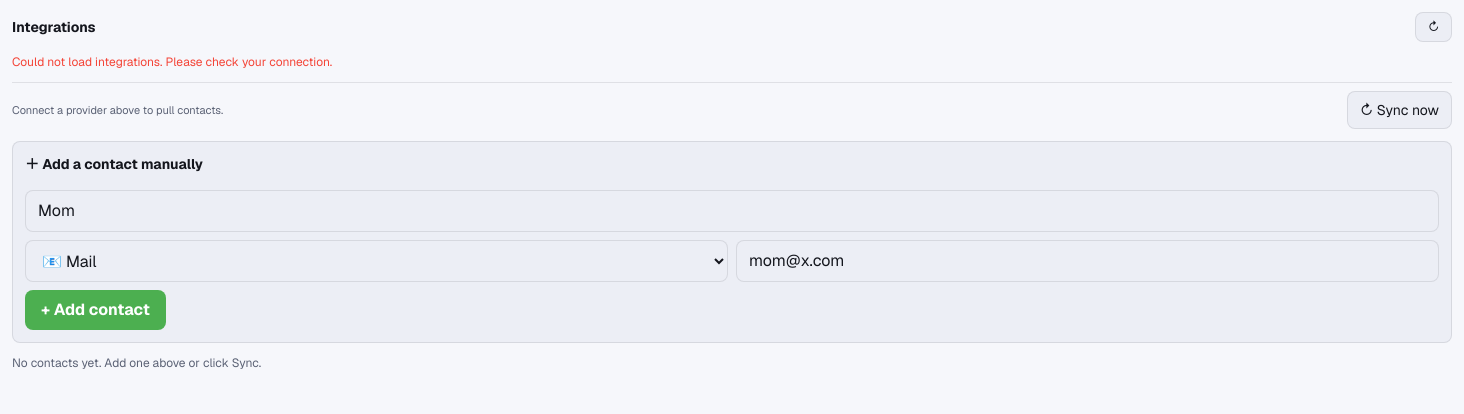
CaregiverContactsSettings — sync button › shows "unavailable" when the sync returns null (network/404)
Step 1. Click the button with test id "contacts-sync-btn" → (1400, 110), box left=1347, top=91, right=1452, bottom=129
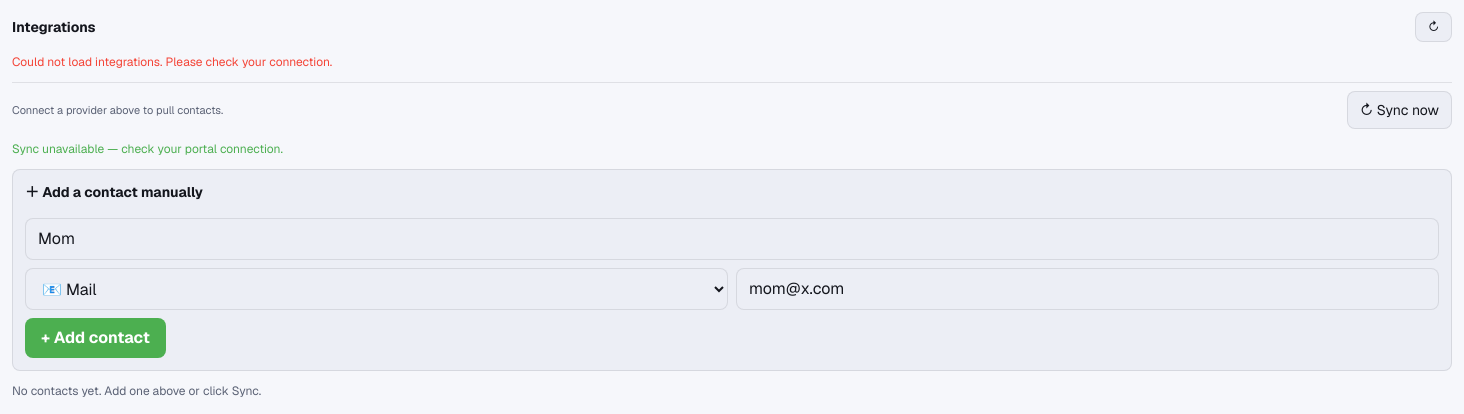
Now the text with test id "contacts-sync-msg" shows "Sync unavailable", box left=12, top=141, right=283, bottom=157
